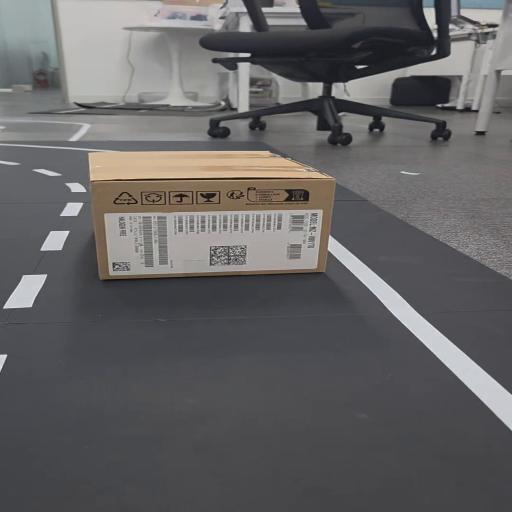Box: (80, 146, 346, 286)
